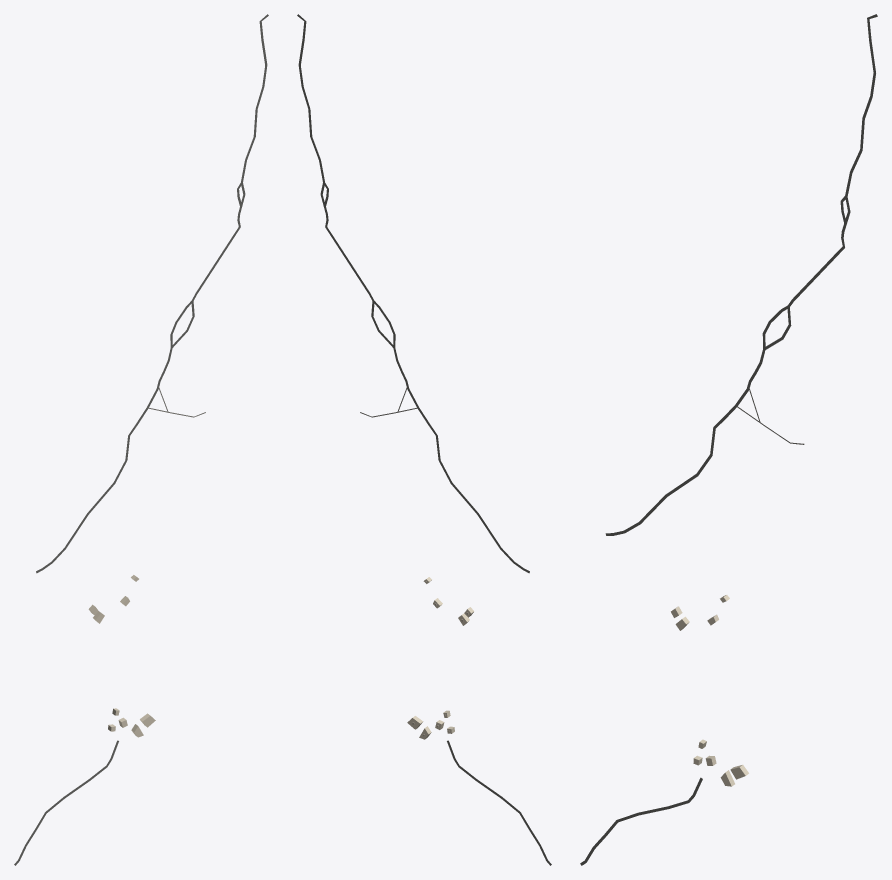
File: historic-palestine-09_19_3513_3137.glb
3 renders of one model, left to right at view 1: azimuth 30°, elevation 25°; view 2: azimuth 150°, elevation 25°; view 3: azimuth 330°, elevation 25°, orthographic. The views are drawn at different scales.
Visible parts, largest first — view 1: Road .003; view 2: Road .003; view 3: Road .003.
Part boxes in pixels (box(x1,y1,x2,y2)): Road .003: box(36, 14, 268, 573); Road .003: box(297, 14, 529, 573); Road .003: box(605, 14, 877, 535).
Bounding box in the file's own units: 366 × 1084 × 8.7.
